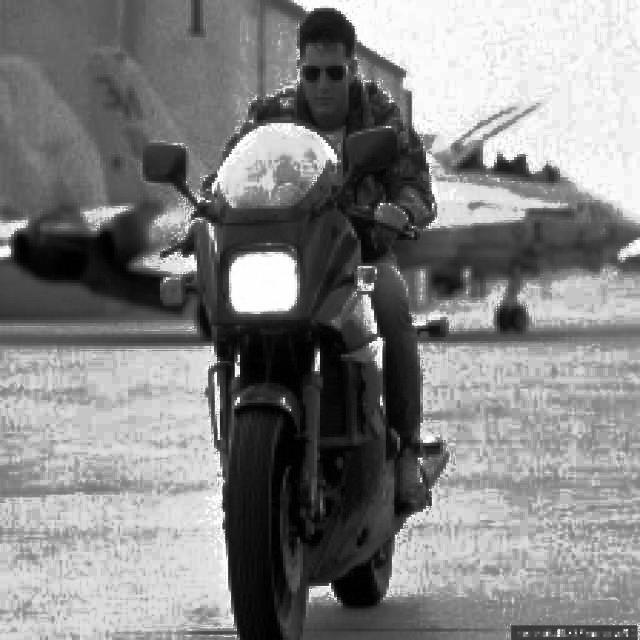Bike: (159, 137, 408, 637)
